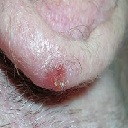Squamous Carcinoma: (43, 51, 74, 96)
